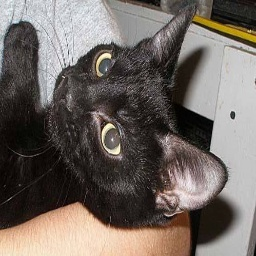cat: (0, 3, 226, 240)
